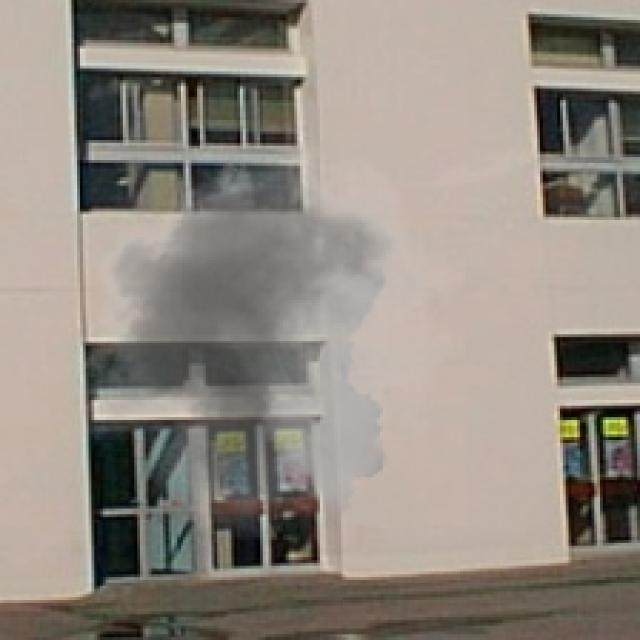Smoke: (60, 137, 469, 540)
